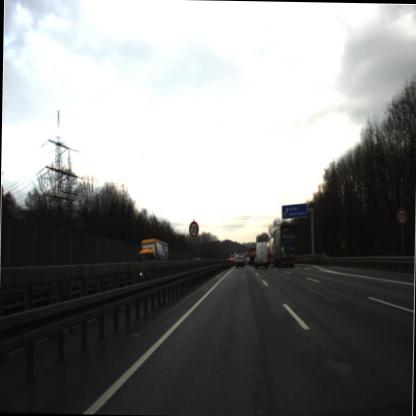prohibitory: (394, 206, 408, 227), (186, 219, 200, 240)
